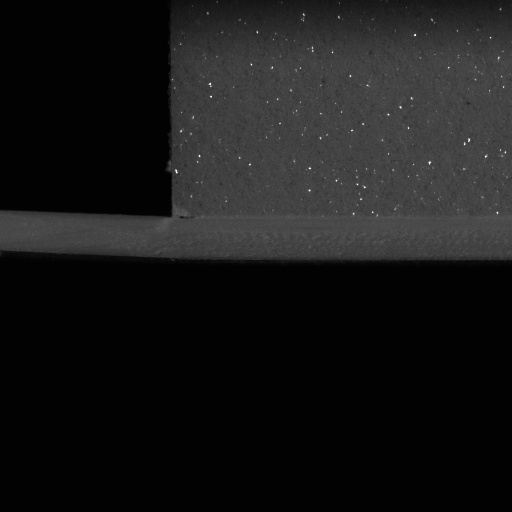changdai: (0, 208, 171, 261)
